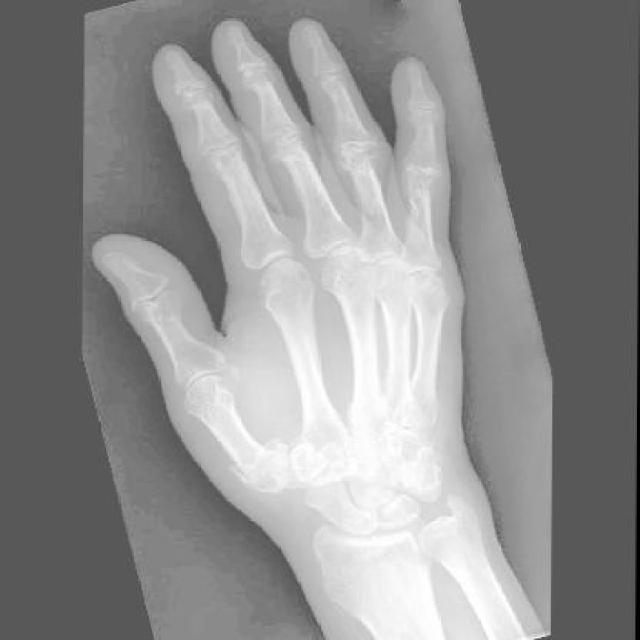Fracture: (229, 437, 288, 493)
